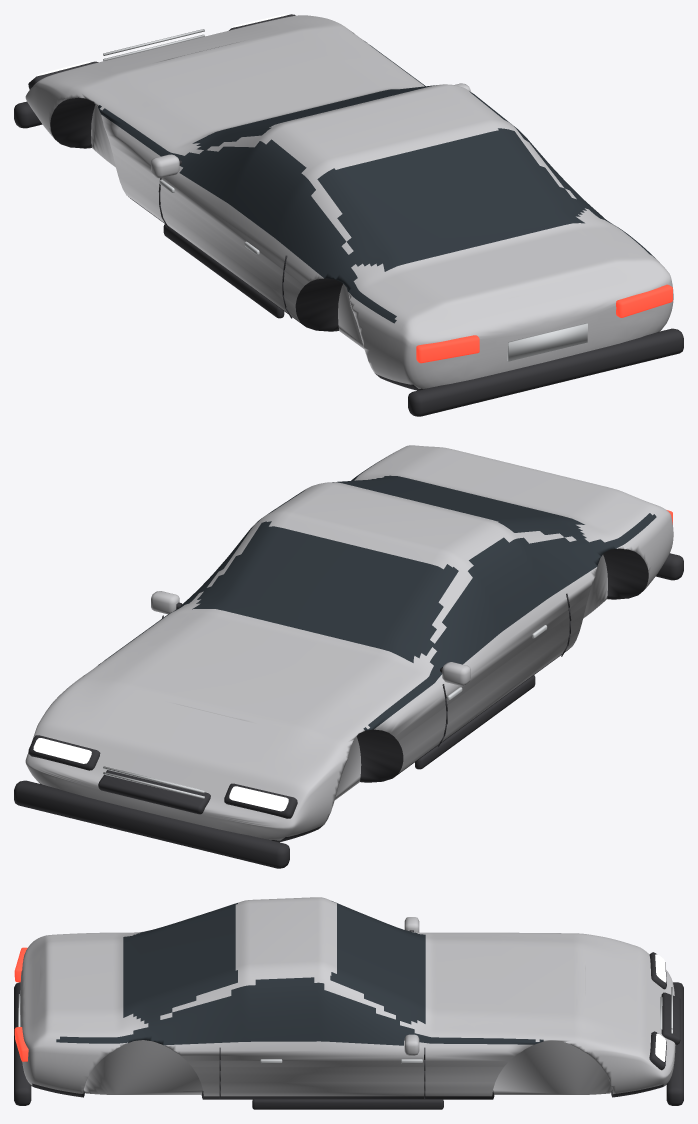
The model's file is car_sports.glb.
3 renders of one model, top to bottom at view 1: azimuth 30°, elevation 25°; view 2: azimuth 150°, elevation 25°; view 3: azimuth 270°, elevation 25°, orthographic. The views are drawn at different scales.
Visible parts, largest first — view 1: car_sports; view 2: car_sports; view 3: car_sports.
Boxes of the visible parts, x1=… form: car_sports: x1=14, y1=14, x2=683, y2=416; car_sports: x1=14, y1=445, x2=683, y2=868; car_sports: x1=14, y1=897, x2=683, y2=1109.
Size of the model in its own units: 2.08 by 0.9718 by 4.61.
